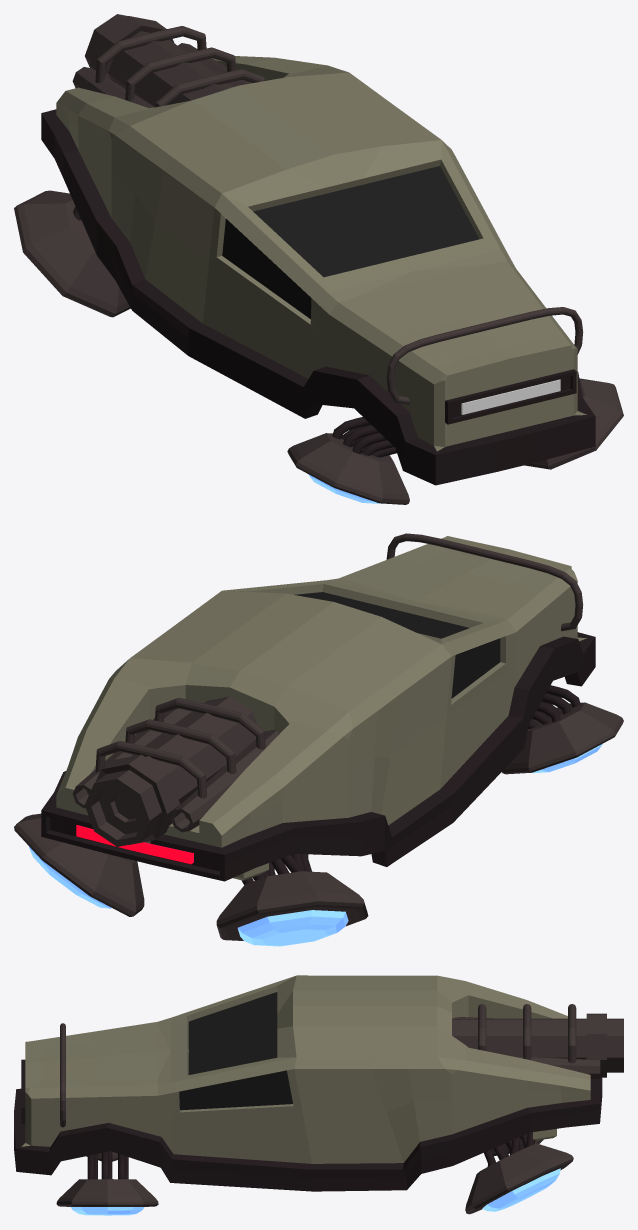
Rendered from car4.fbx.
The picture shows the model from 3 angles, top to bottom: view 1: azimuth 30°, elevation 25°; view 2: azimuth 150°, elevation 25°; view 3: azimuth 270°, elevation 25°; orthographic projection. The views are drawn at different scales.
Parts seen in each view (by area): view 1: Cube; view 2: Cube; view 3: Cube.
Boxes of the visible parts, x1,y1,x2,y2 form: Cube: (14, 14, 623, 504); Cube: (14, 533, 623, 946); Cube: (14, 975, 623, 1215).
Bounding box in the file's own units: 153 × 100 × 310.
